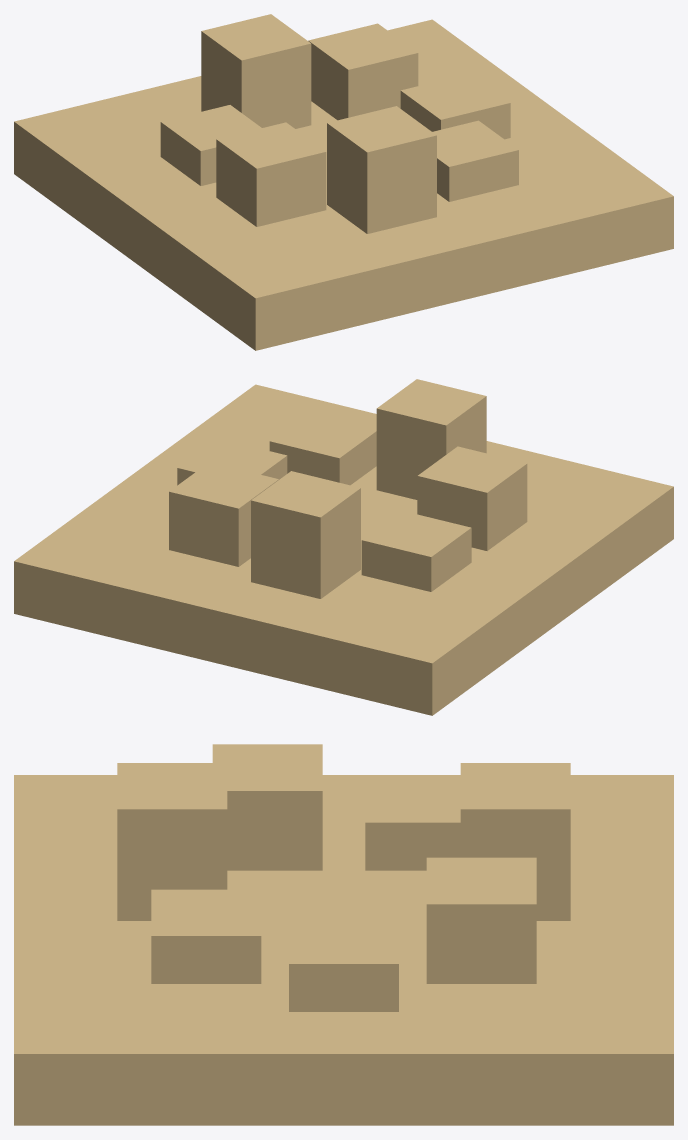
File: desert.glb
3 renders of one model, top to bottom at view 1: azimuth 30°, elevation 25°; view 2: azimuth 150°, elevation 25°; view 3: azimuth 270°, elevation 25°, orthographic. The views are drawn at different scales.
Visible parts, largest first — view 1: desert base, desert relief.005, desert relief.002, desert relief.004, desert relief.001, desert relief.006, desert relief, desert relief.003; view 2: desert base, desert relief.002, desert relief.005, desert relief.004, desert relief.001, desert relief.003, desert relief.006, desert relief; view 3: desert base, desert relief.005, desert relief.001, desert relief.002, desert relief.004, desert relief.006, desert relief, desert relief.003.
Boxes of the visible parts, <box> form: desert base: <box>14,19,673,350</box>; desert relief.005: <box>327,106,436,233</box>; desert relief.002: <box>201,14,311,128</box>; desert relief.004: <box>216,122,326,226</box>; desert relief.001: <box>308,23,418,120</box>; desert relief.006: <box>432,120,518,201</box>; desert relief: <box>400,73,510,139</box>; desert relief.003: <box>160,105,261,185</box>; desert base: <box>14,384,673,715</box>; desert relief.002: <box>251,471,360,598</box>; desert relief.005: <box>376,379,486,499</box>; desert relief.004: <box>417,446,527,550</box>; desert relief.001: <box>169,462,278,566</box>; desert relief.003: <box>361,510,471,591</box>; desert relief.006: <box>269,412,376,485</box>; desert relief: <box>177,438,287,485</box>; desert base: <box>14,775,673,1125</box>; desert relief.005: <box>117,763,227,920</box>; desert relief.001: <box>426,857,536,983</box>; desert relief.002: <box>460,763,570,920</box>; desert relief.004: <box>212,744,322,870</box>; desert relief.006: <box>151,889,261,983</box>; desert relief: <box>289,917,398,1011</box>; desert relief.003: <box>365,776,460,870</box>.
Size of the model in its own units: 3 by 0.92 by 3.
